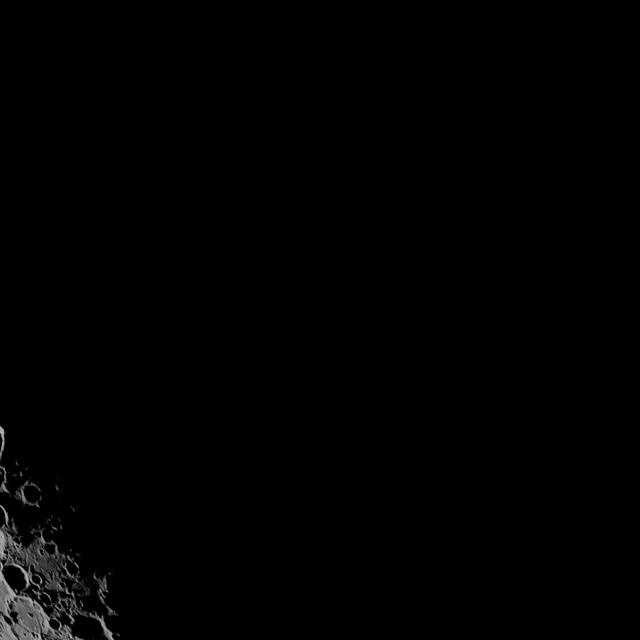crater: (1, 555, 34, 597), (23, 478, 50, 508), (27, 572, 49, 588), (46, 614, 66, 630)
